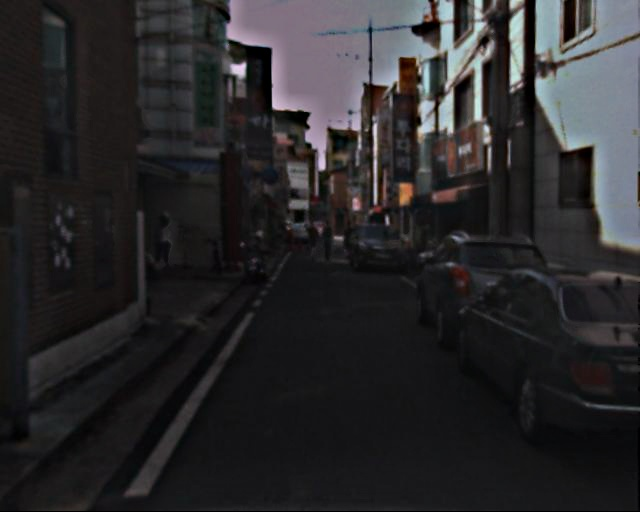person: (154, 208, 180, 271), (341, 216, 359, 261), (320, 216, 338, 260), (306, 220, 322, 260)
